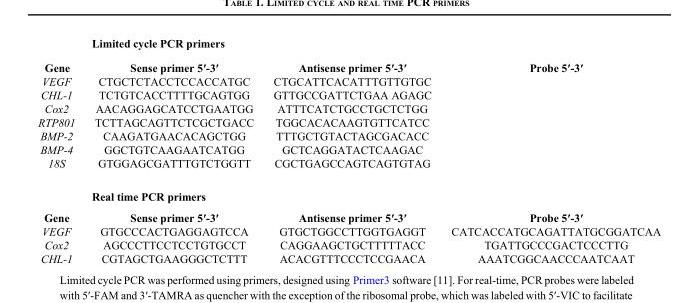table: (37, 36, 660, 264)
table column: (440, 36, 660, 264), (84, 36, 262, 264), (262, 36, 440, 264), (37, 36, 84, 264)
table projected row header: (37, 179, 660, 206), (37, 36, 660, 55)
table row: (37, 179, 660, 206), (37, 155, 660, 179), (37, 36, 660, 55), (37, 55, 660, 74), (37, 206, 660, 224), (37, 87, 660, 101), (37, 114, 660, 128), (37, 128, 660, 142), (37, 237, 660, 251), (37, 74, 660, 87), (37, 101, 660, 114), (37, 142, 660, 155), (37, 224, 660, 237), (37, 251, 660, 264)
